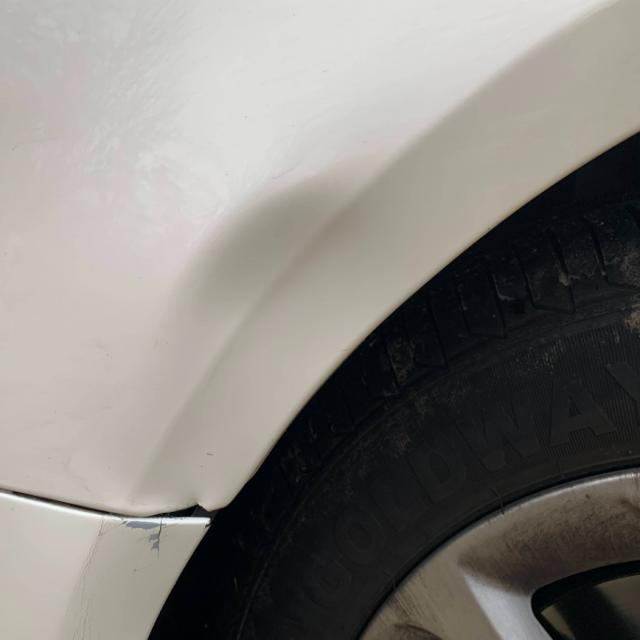dents: (188, 169, 341, 363)
